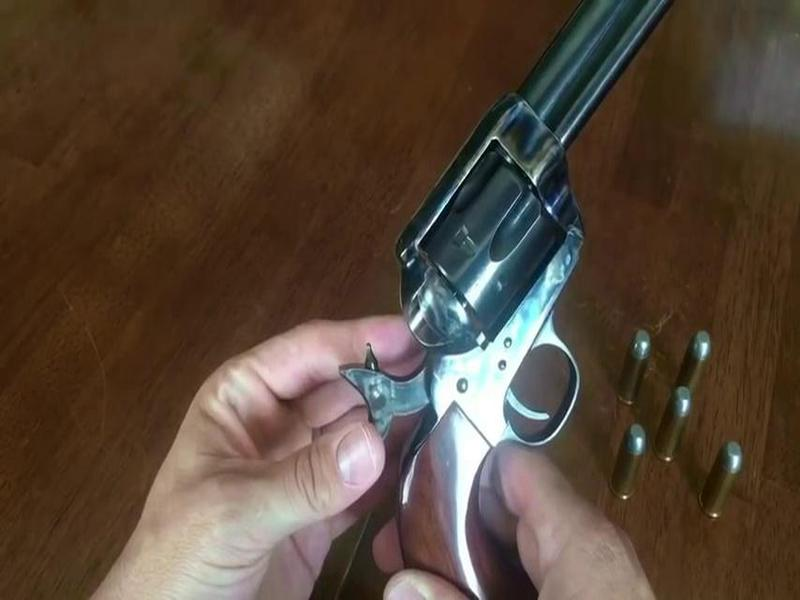Revolver: (343, 13, 613, 496)
